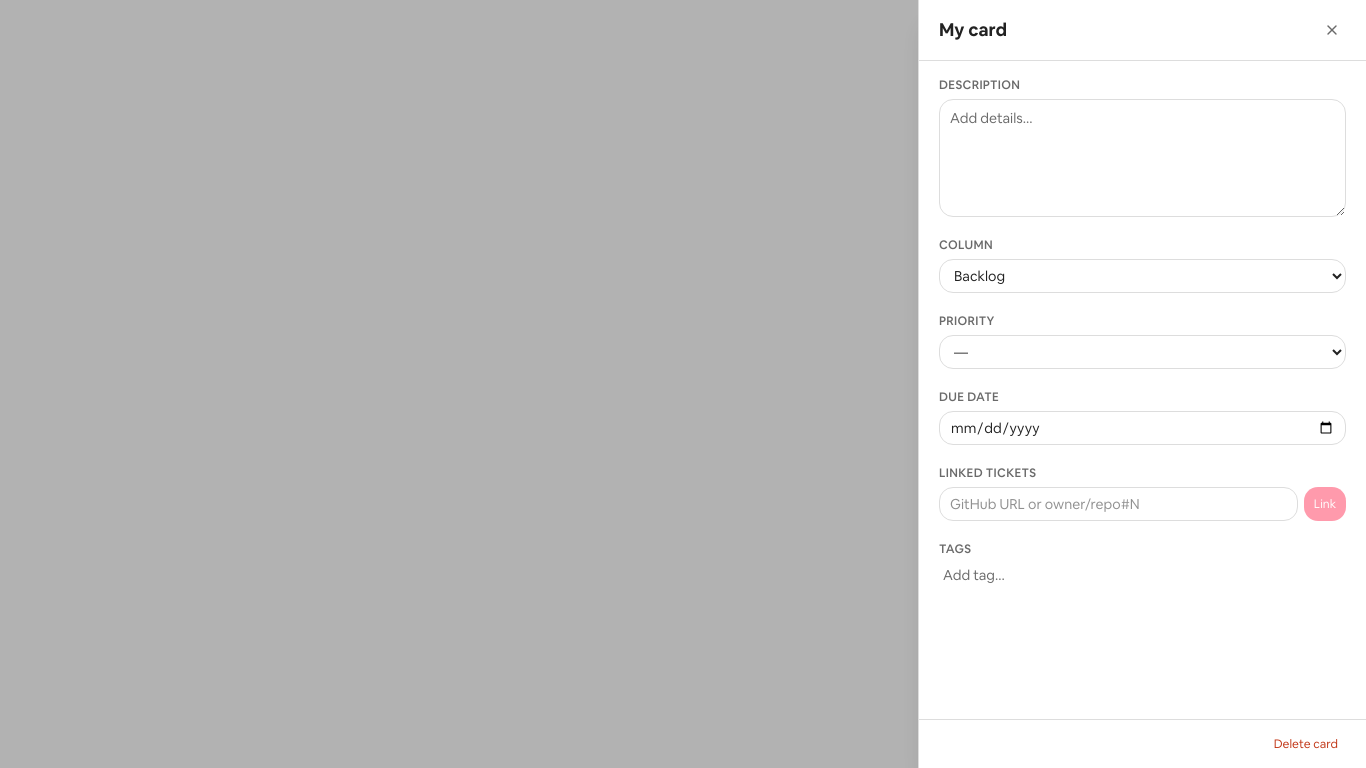
Test case: CardDetailPane linked tickets › surfaces the resolver error message
Type "garbage" into the field named "Link GitHub".
click(1118, 504); type("garbage")  # box [939, 487, 1298, 521]
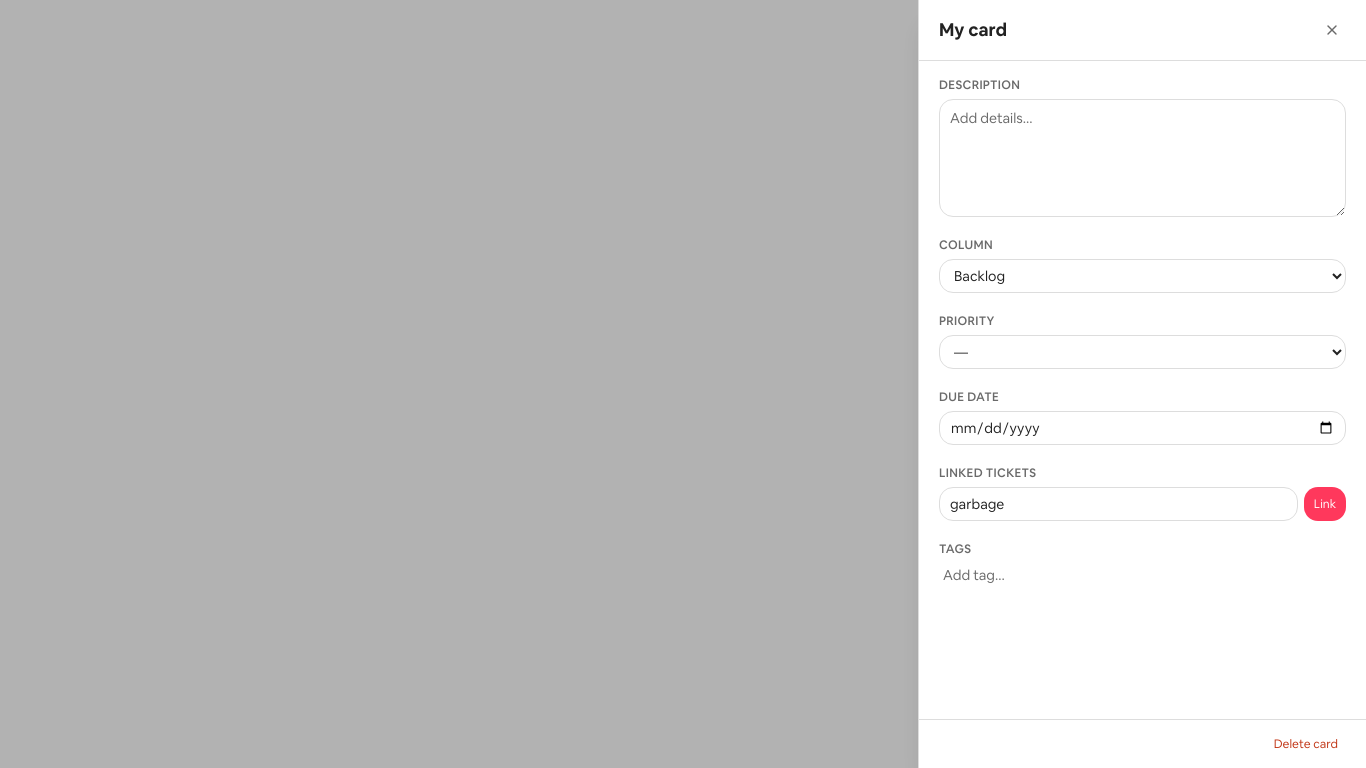
Click the button "Link".
click(1325, 504)  # box [1304, 487, 1346, 521]
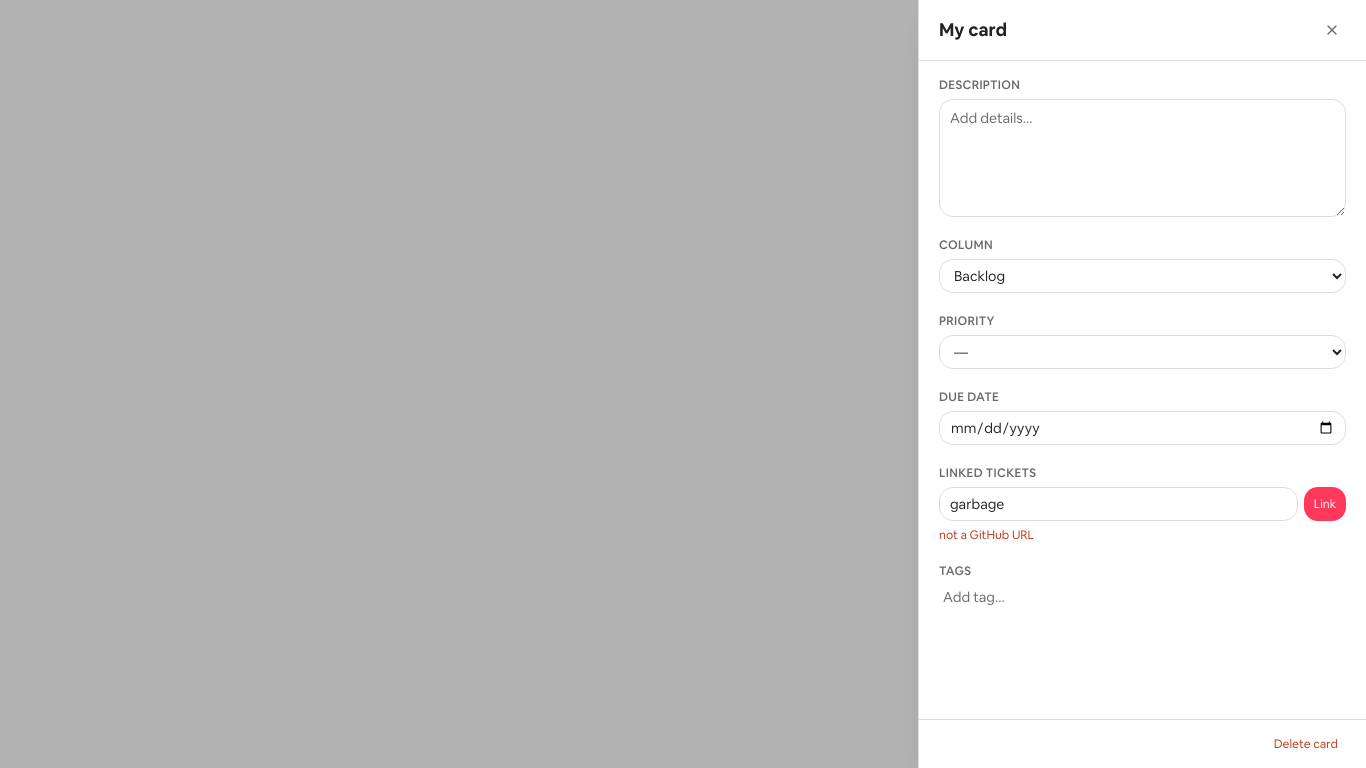
Check: the message reads "not a GitHub URL", box [939, 527, 1034, 543]
